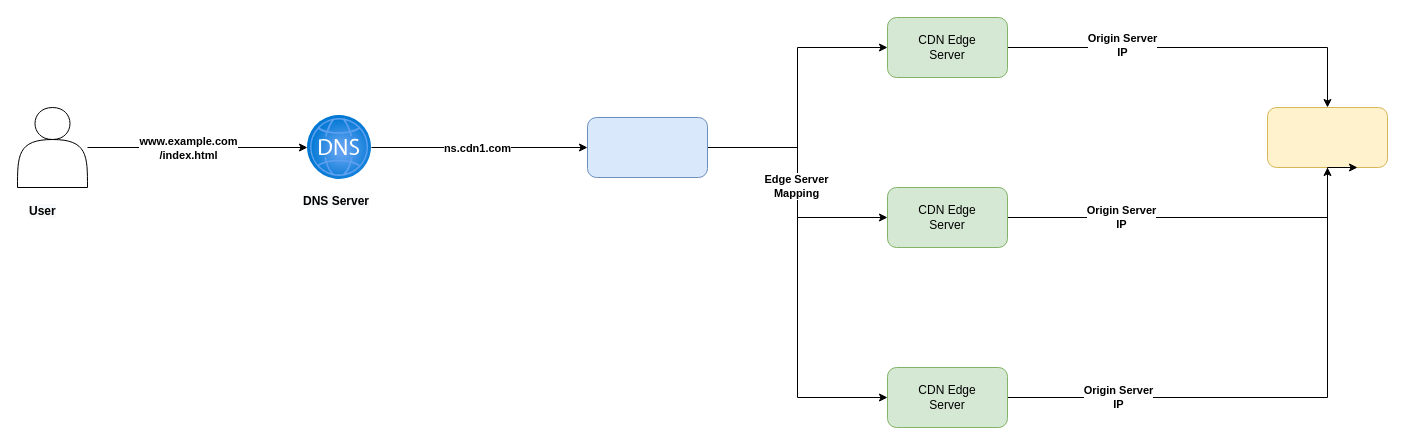
Some shapes in this 1405 by 445 pixel diagram are drawn without their labels. The centre of each missing label's shape, as x and y in pixels:
CDN Network: (x=647, y=147)
Origin Server: (x=1327, y=137)
